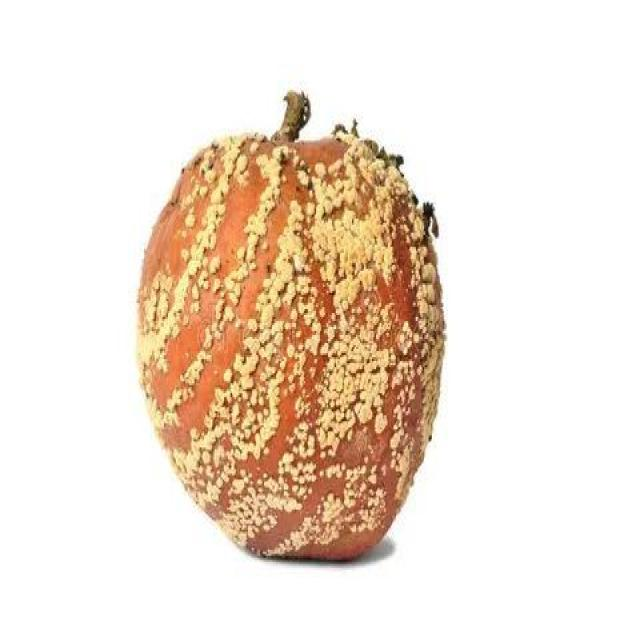Rotten Apple: (140, 139, 444, 551)
